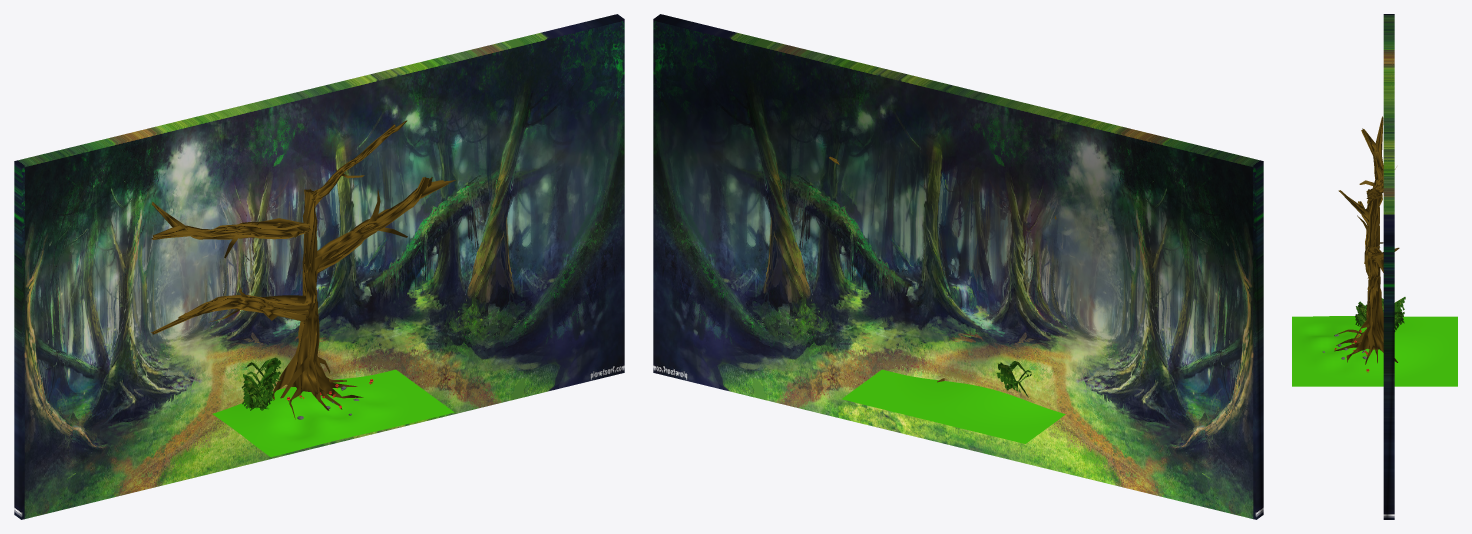
Rendered from jungle_9.obj.
3 views of the same model, side by side, from view 1: azimuth 30°, elevation 25°; view 2: azimuth 150°, elevation 25°; view 3: azimuth 270°, elevation 25° (orthographic). The views are drawn at different scales.
Parts seen in each view (by area): view 1: pCube1, pPlane1, pCylinder2, pCylinder5, pCylinder6, pCylinder3, pCylinder4, Bush03; view 2: pCube1, pPlane1; view 3: pPlane1, pCube1, pCylinder2, pCylinder6, pCylinder3, pCylinder5, bush02:Bush01, Bush03.
Part boxes in pixels (bbox=[...]): pCube1: bbox=[14, 14, 624, 519]; pPlane1: bbox=[212, 369, 454, 457]; pCylinder2: bbox=[272, 189, 363, 419]; pCylinder5: bbox=[305, 177, 455, 275]; pCylinder6: bbox=[151, 202, 310, 258]; pCylinder3: bbox=[151, 288, 309, 334]; pCylinder4: bbox=[311, 120, 407, 206]; Bush03: bbox=[241, 375, 273, 410]; pCube1: bbox=[653, 14, 1263, 519]; pPlane1: bbox=[841, 369, 1065, 443]; pPlane1: bbox=[1292, 316, 1457, 386]; pCube1: bbox=[1383, 14, 1394, 519]; pCylinder2: bbox=[1334, 188, 1397, 364]; pCylinder6: bbox=[1359, 116, 1396, 217]; pCylinder3: bbox=[1338, 190, 1383, 276]; pCylinder5: bbox=[1366, 233, 1399, 278]; bush02:Bush01: bbox=[1381, 297, 1405, 331]; Bush03: bbox=[1355, 301, 1366, 326].
Bounding box in the file's own units: 247 × 138 × 75.41.
Materials: 6 (3 with a texture image).
